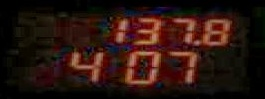-: (194, 39, 200, 45)
0: (121, 48, 161, 84)
1: (107, 17, 129, 42)
3: (132, 15, 161, 44)
4: (65, 49, 105, 82)
7: (165, 48, 198, 83), (169, 15, 194, 44)
8: (201, 16, 230, 46)
